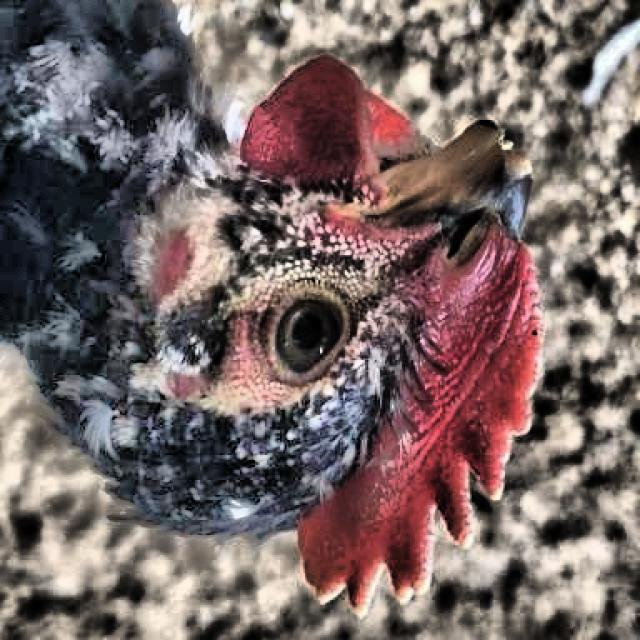Healthy: (247, 276, 380, 396)
